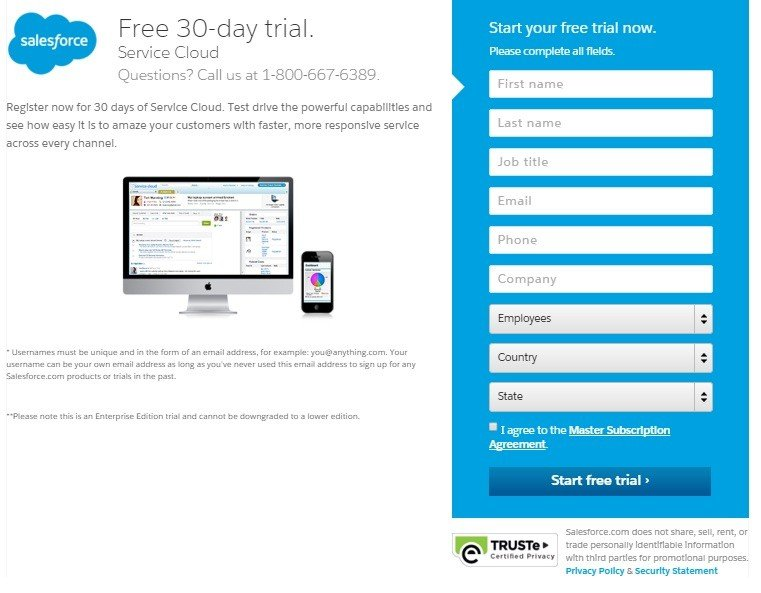_form_: (477, 58, 727, 507)
button: (487, 465, 713, 496)
checkbox: (488, 422, 502, 431)
checkbox_with_label: (485, 420, 674, 438)
field: (488, 303, 714, 337), (489, 381, 713, 415), (489, 342, 713, 375), (487, 68, 714, 100), (487, 263, 714, 295), (488, 224, 715, 256), (486, 186, 713, 218), (486, 146, 713, 178), (487, 108, 714, 140)
